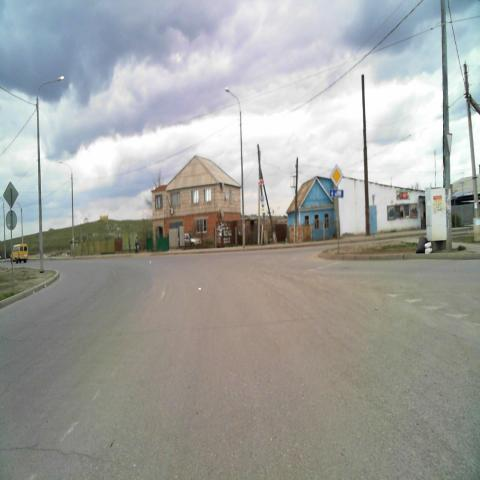6_15_1: (329, 189, 345, 199)
